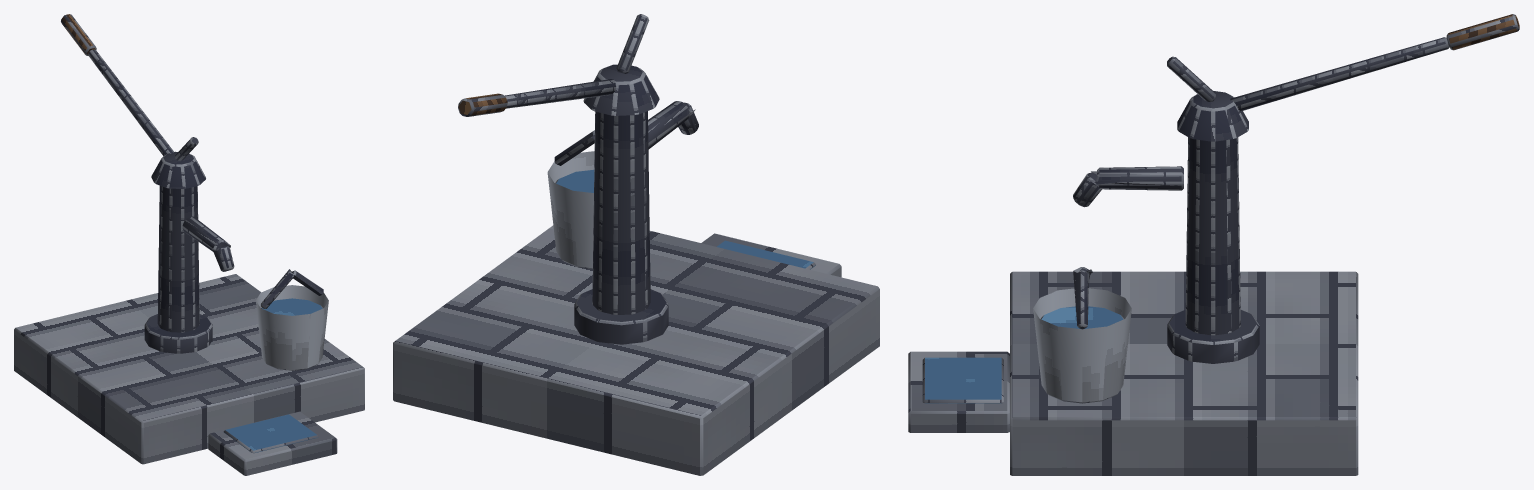
File: cn_hand_pump_1.glb
3 renders of one model, left to right at view 1: azimuth 30°, elevation 25°; view 2: azimuth 150°, elevation 25°; view 3: azimuth 270°, elevation 25°, orthographic. The views are drawn at different scales.
Visible parts, largest first — view 1: cn_hand_pump_2; view 2: cn_hand_pump_2; view 3: cn_hand_pump_2.
Part boxes in pixels (x1,y1,x2,y2): cn_hand_pump_2: (14, 14, 364, 475); cn_hand_pump_2: (393, 14, 879, 475); cn_hand_pump_2: (908, 14, 1519, 475).
Size of the model in its own units: 1.2 by 1.47 by 2.11.
Materials: 5 (5 with a texture image).
